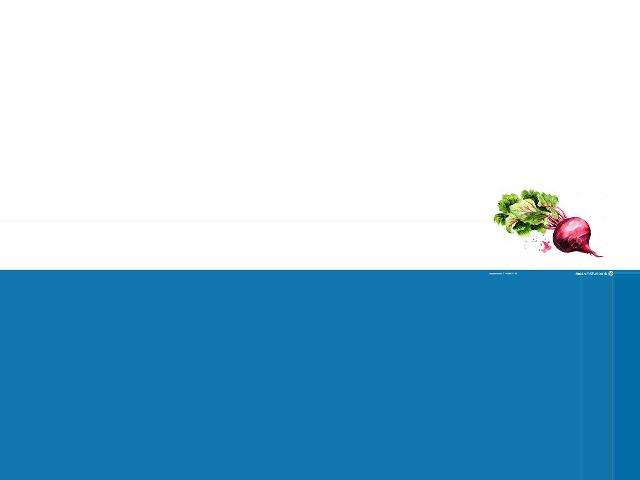beet: (492, 190, 602, 258)
